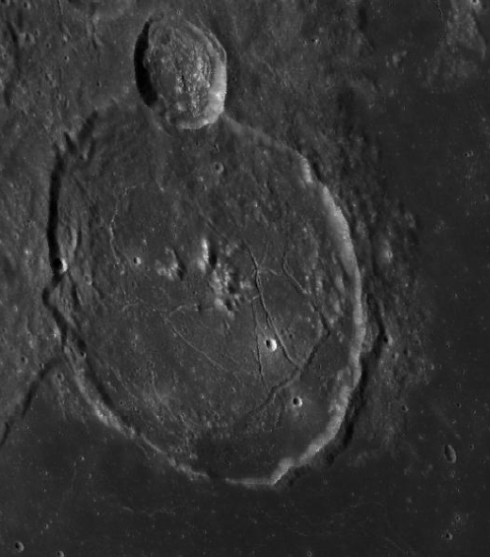crater: (22, 93, 435, 520), (107, 7, 268, 164)
